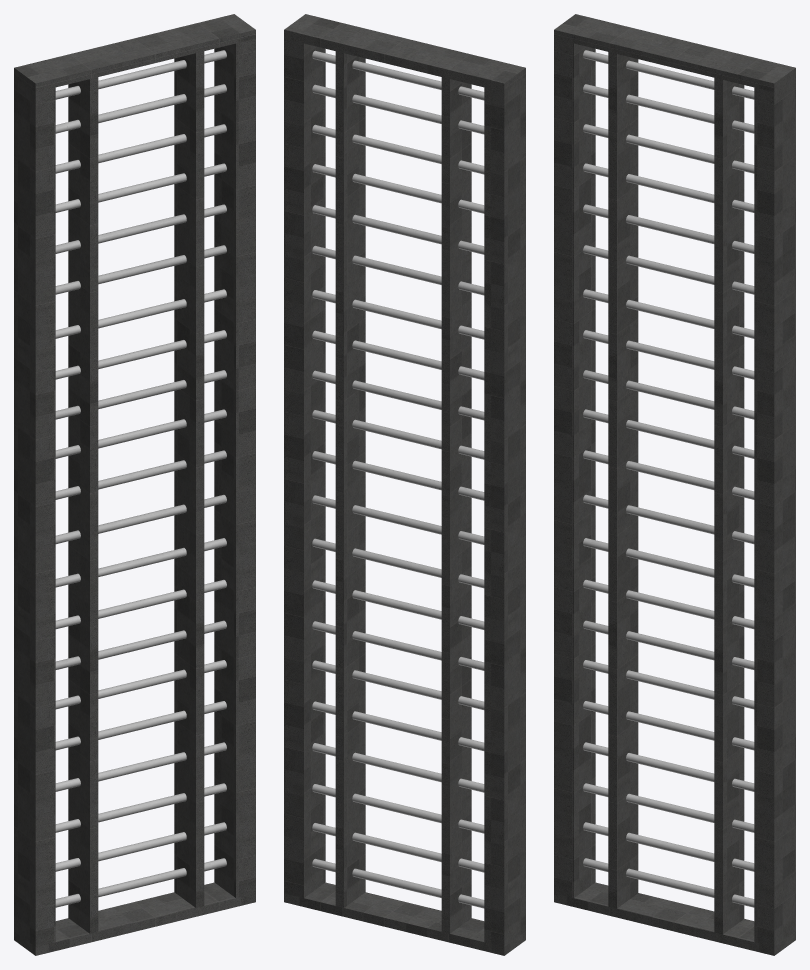
File: Block Door.fbx
The picture shows the model from 3 angles, left to right: view 1: azimuth 30°, elevation 25°; view 2: azimuth 150°, elevation 25°; view 3: azimuth 330°, elevation 25°; orthographic projection.
Visible parts, largest first — view 1: polySurface6; view 2: polySurface6; view 3: polySurface6.
Boxes of the visible parts, box(x1,y1,x2,y2) form: polySurface6: box(14, 14, 255, 955); polySurface6: box(284, 14, 525, 955); polySurface6: box(554, 14, 795, 955).
Bounding box in the file's own units: 5.91 × 22.36 × 1.
2 materials, 2 textured.
